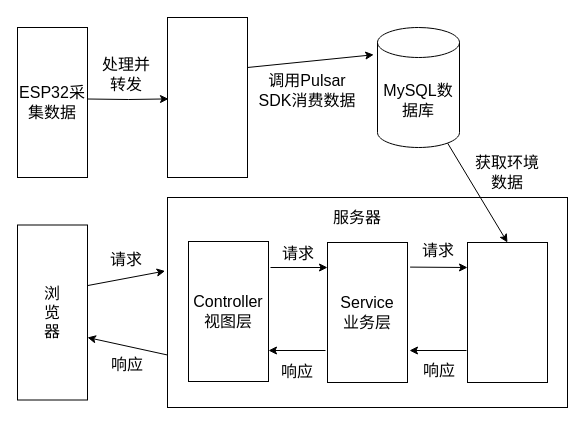
The diagram is 585 pixels wide and 425 high, and some of its shapes have lost their labels. The centre of each missing label's shape, as x and y in pixels:
OneNET物联网云平台: [207,97]
Repository 数据层: [507,312]
